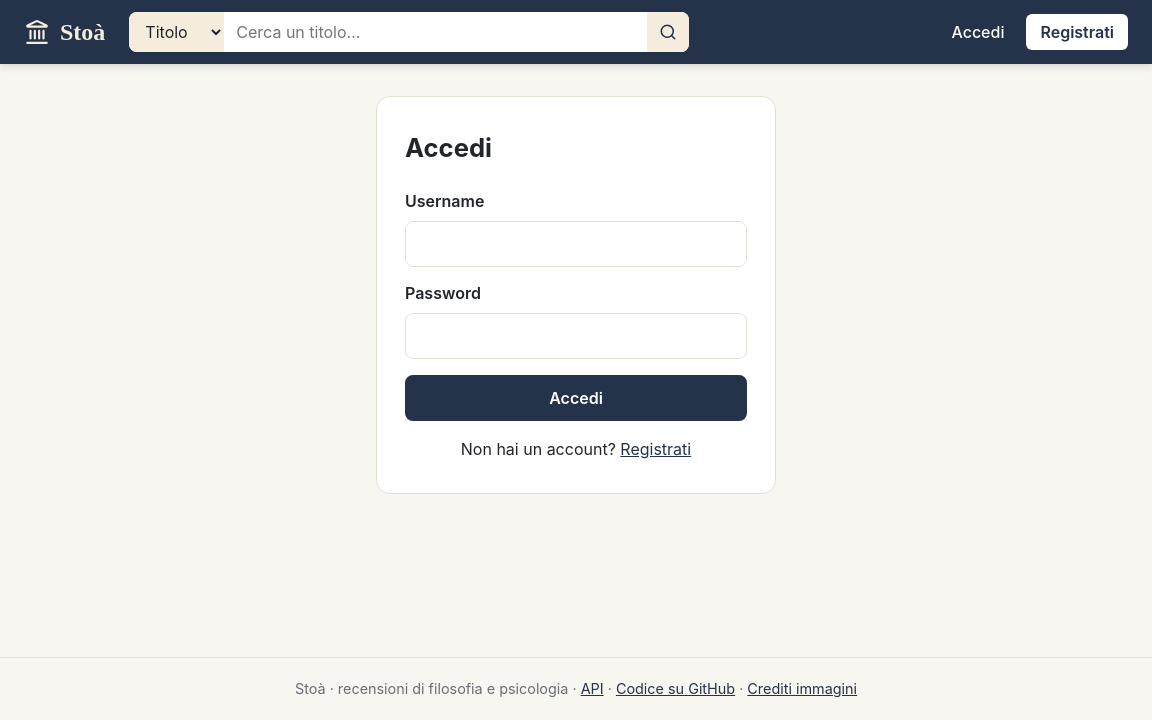
login › logs in and shows the username in the header
This screenshot has width=1152, height=720.
Type "mario" into the field labelled "Username" at (576, 244), box [405,221,747,267]
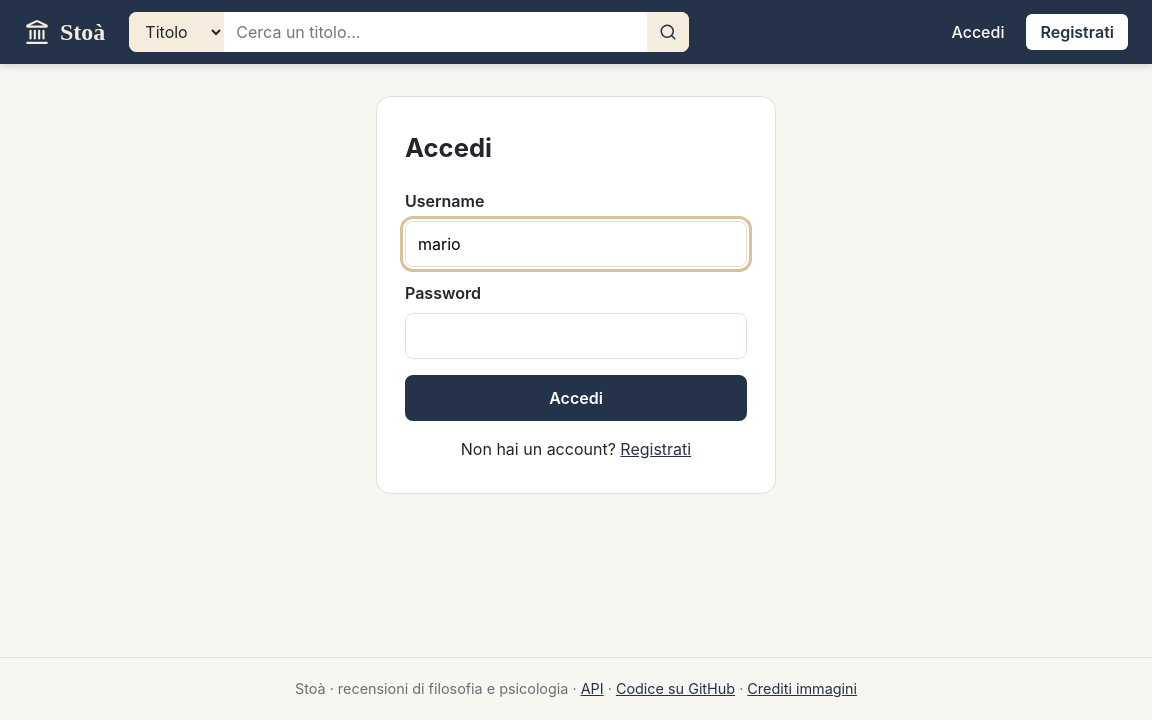
Type "segreta1" into the password field labelled "Password" at (576, 336), box [405,313,747,359]
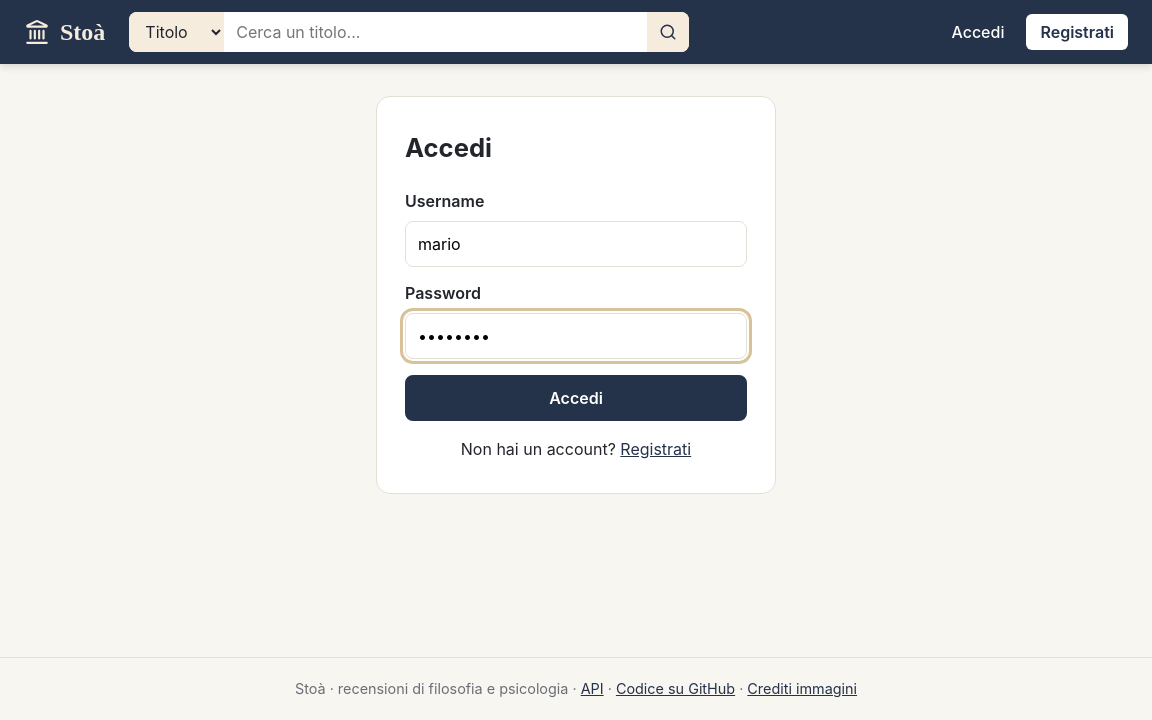
Click the button "Accedi" at (576, 398), box [405,375,747,421]
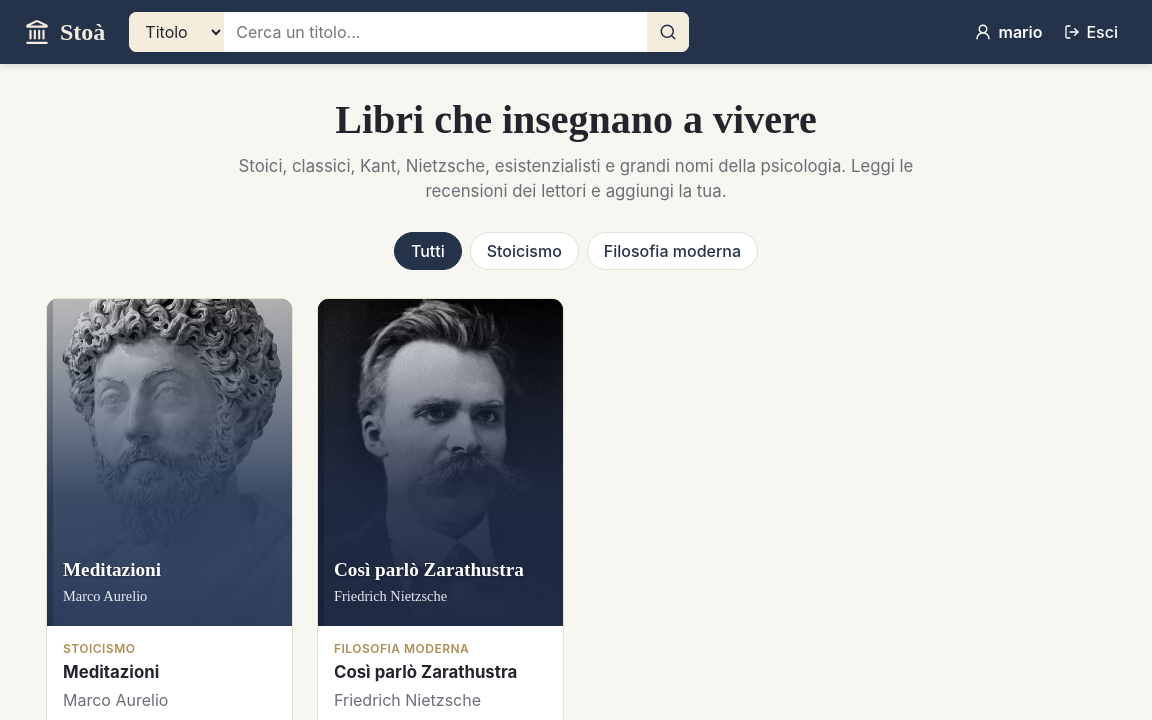
Result: the text "mario" is shown at [974,20,1042,44]
Result: the button "Esci" is shown at [1054,14,1128,50]
